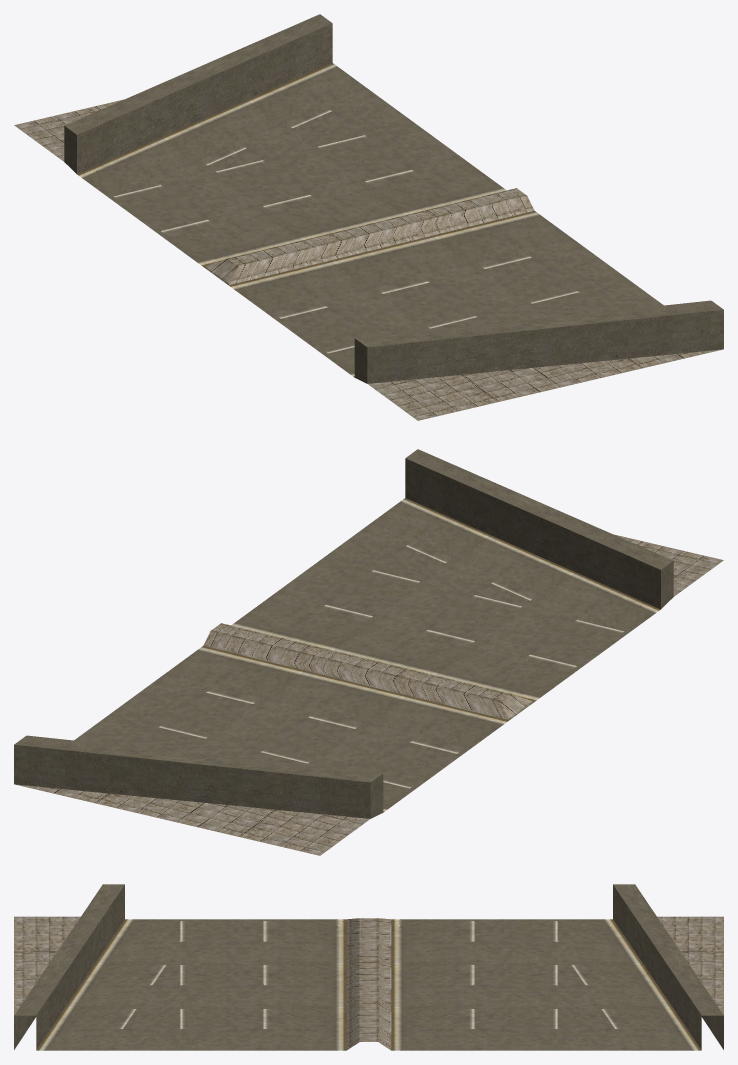
File: Road2_Part_11.fbx
The picture shows the model from 3 angles, top to bottom: view 1: azimuth 30°, elevation 25°; view 2: azimuth 150°, elevation 25°; view 3: azimuth 270°, elevation 25°; orthographic projection. The views are drawn at different scales.
Parts seen in each view (by area): view 1: Road_Part_16; view 2: Road_Part_16; view 3: Road_Part_16.
Part boxes in pixels (x1,y1,x2,y2): Road_Part_16: (14,14,723,420); Road_Part_16: (14,449,723,855); Road_Part_16: (14,884,723,1050).
Size of the model in its own units: 1400 by 173 by 3200.
